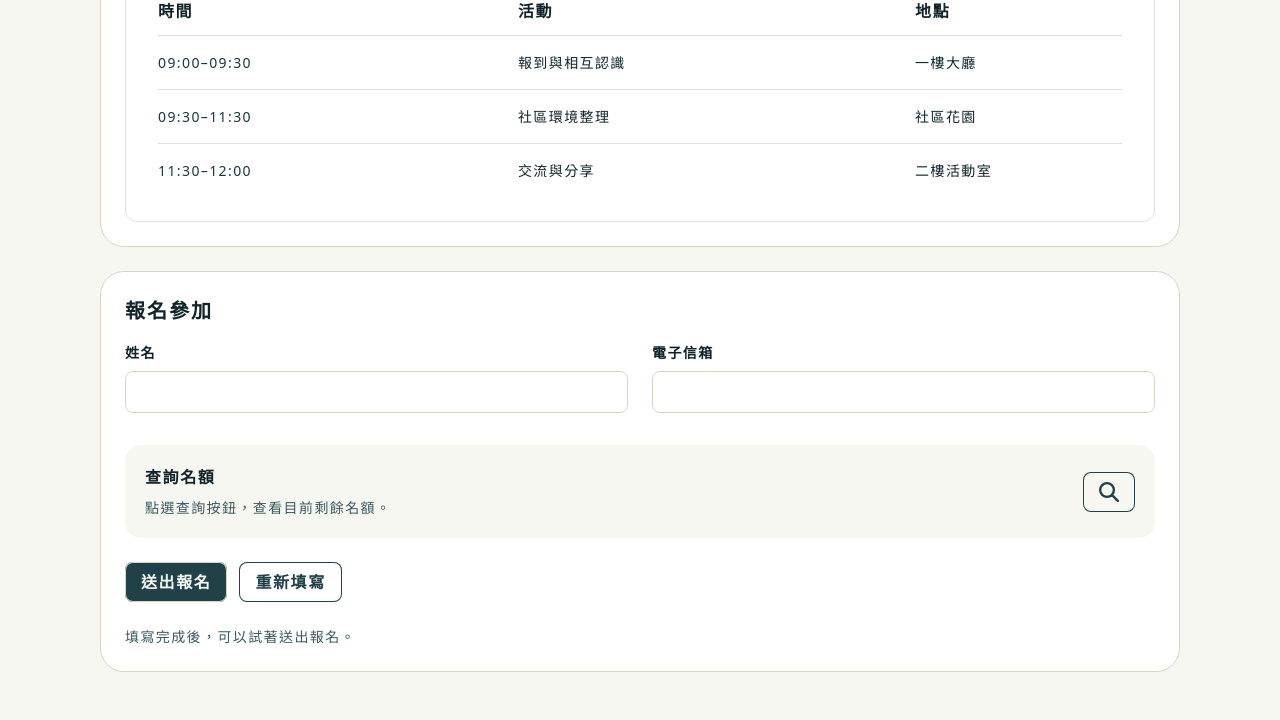
Scenario: WAVE 學員檢測頁 › 查詢名額與模擬報名可操作，重設會清除資料與回饋
This screenshot has width=1280, height=720.
(page scrolled)
Click the 1st button: click(1109, 492) [1083, 472, 1135, 512]
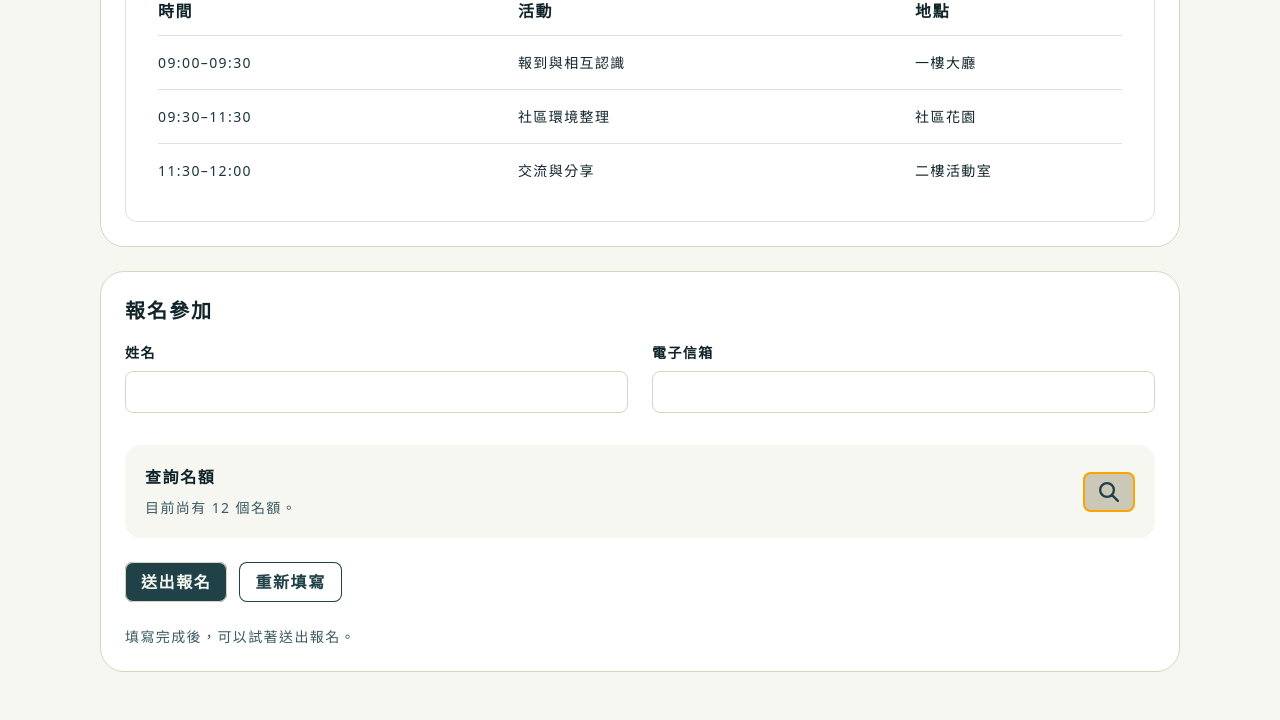
Check: the text "目前尚有 12 個名額。" is shown, box [145, 497, 297, 518]
In the 1st field: (376, 392) [125, 371, 628, 413], type "學員"
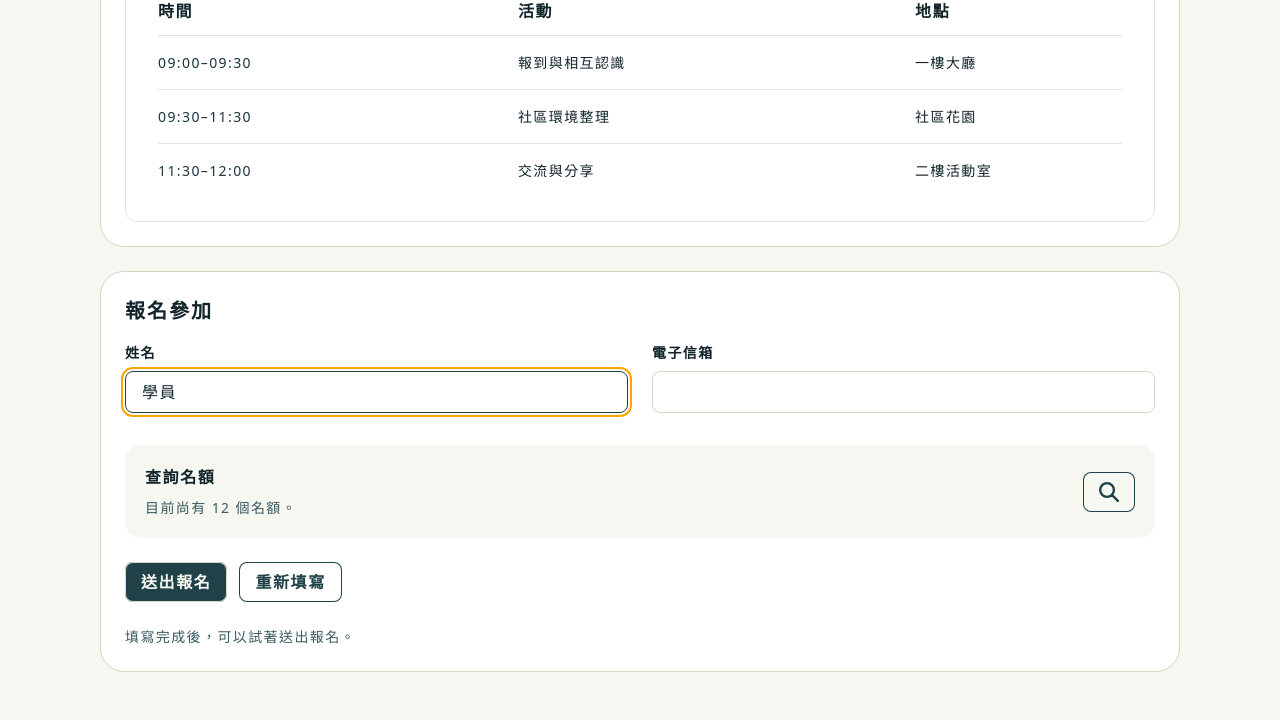
In the field labelled "電子信箱": (904, 392) [652, 371, 1155, 413], type "learner@example.com"
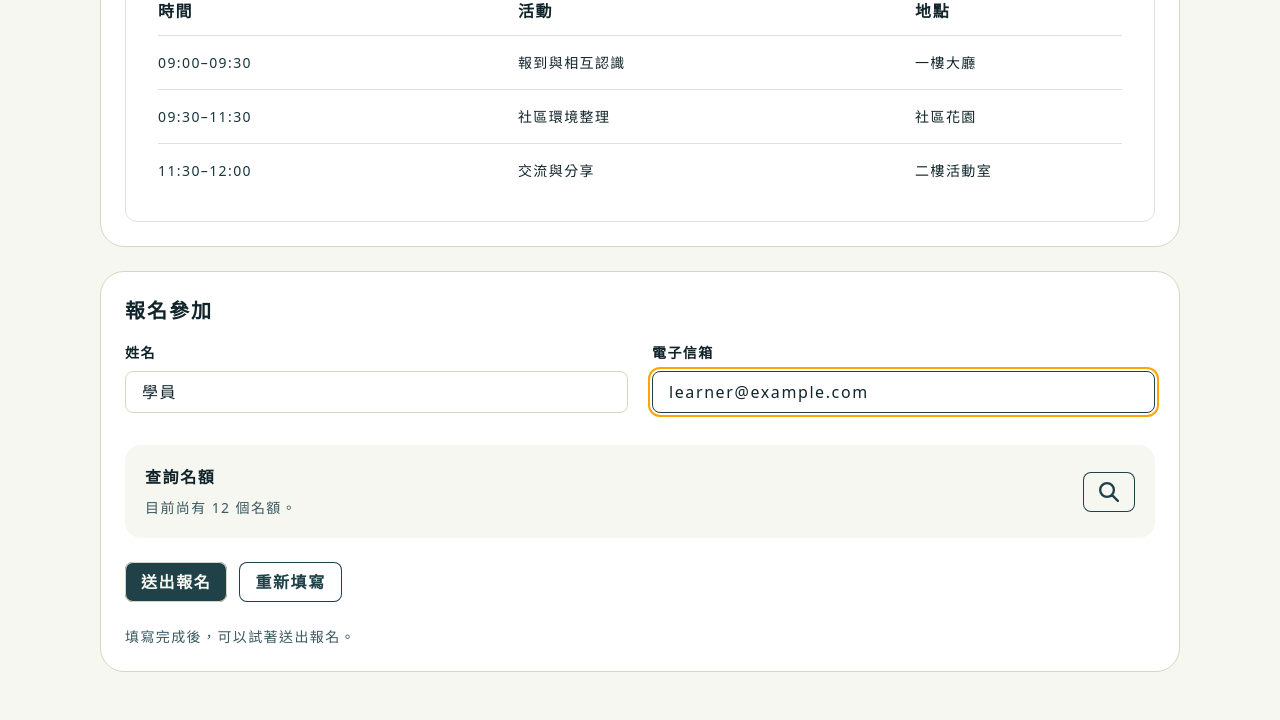
Click the button "送出報名": click(176, 582) [125, 562, 227, 602]
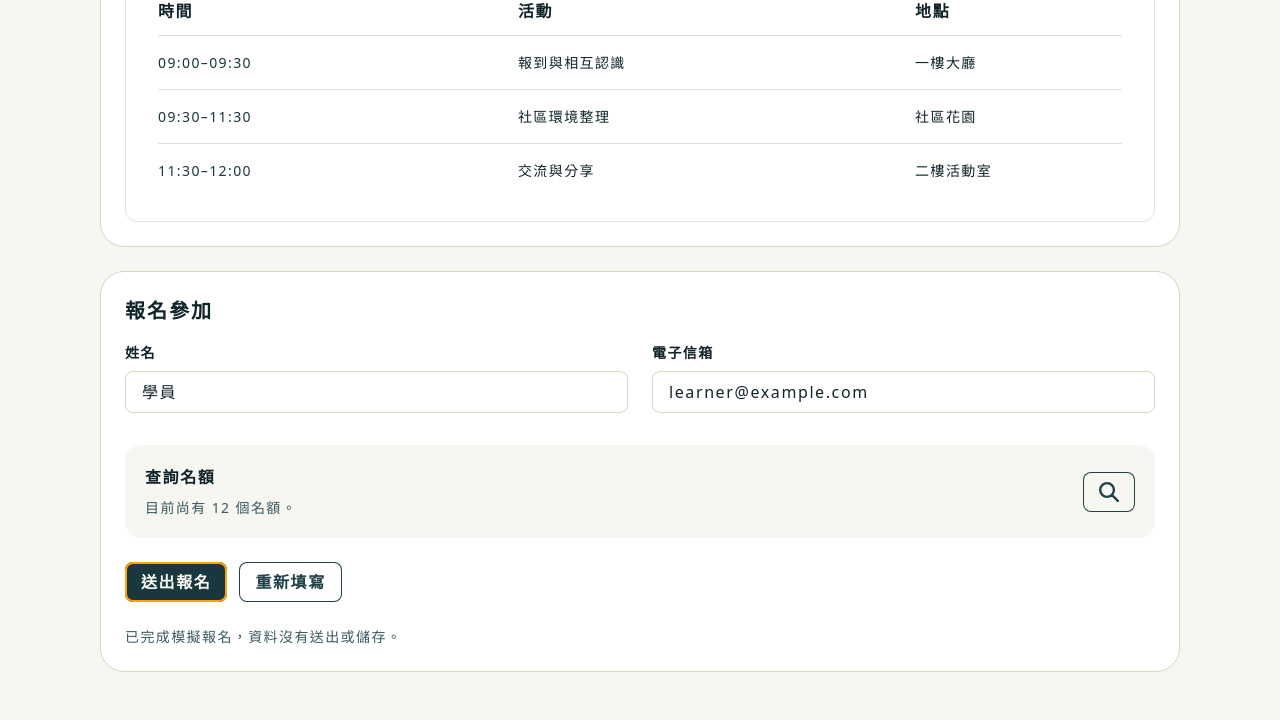
Check: the text "已完成模擬報名，資料沒有送出或儲存。" is shown, box [125, 627, 402, 646]
Click the button "重新填寫": click(291, 582) [239, 562, 342, 602]
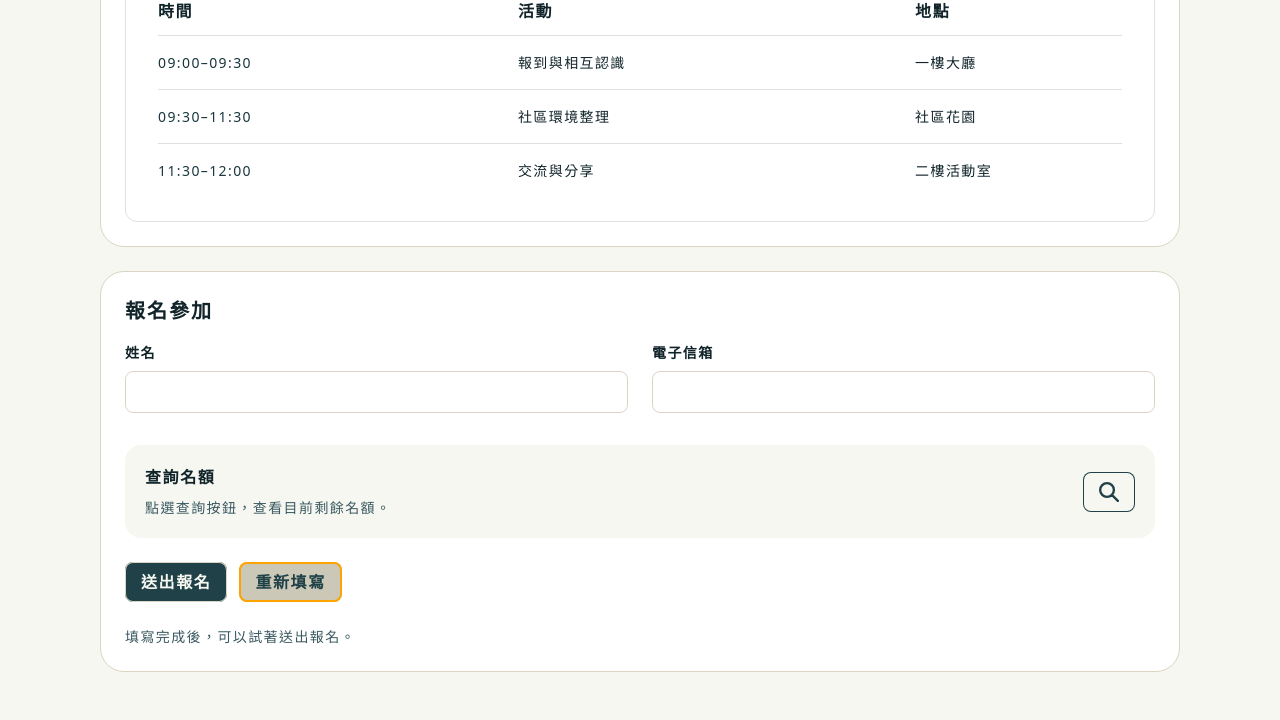
Check: the 1st field is empty, box [125, 371, 628, 413]
Check: the field labelled "電子信箱" is empty, box [652, 371, 1155, 413]
Check: the text "已完成模擬報名，資料沒有送出或儲存。" is gone
